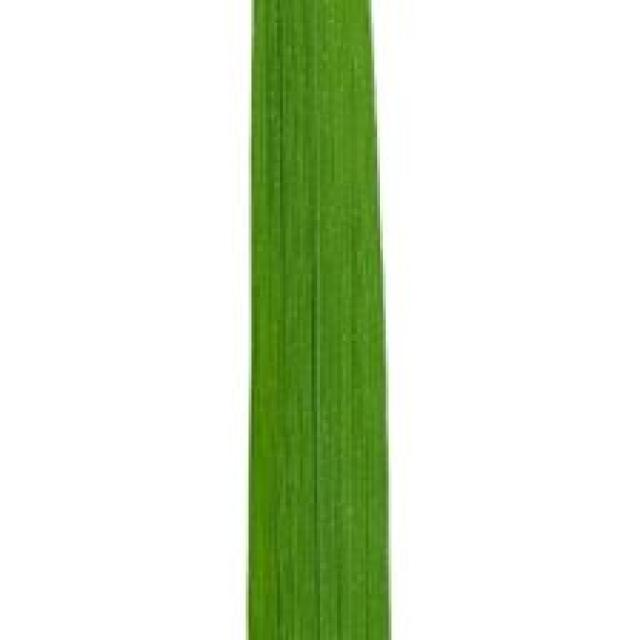Rice___Healthy_Rice_Plant: (248, 1, 393, 637)
